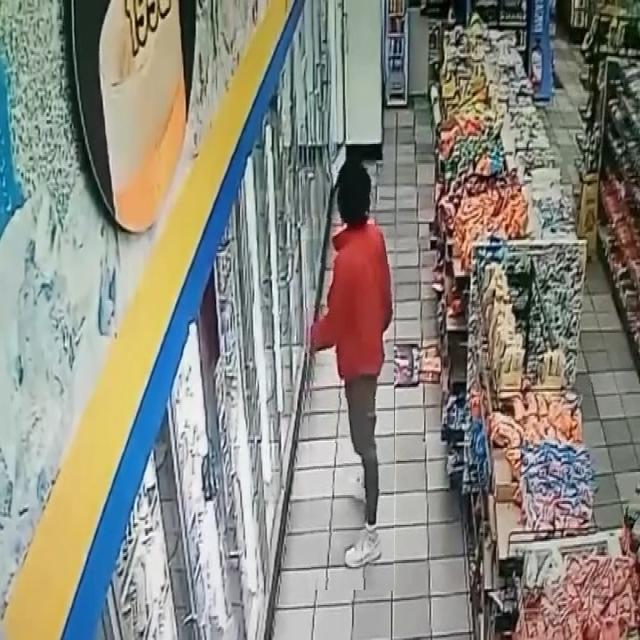Normal: (302, 151, 394, 591)
